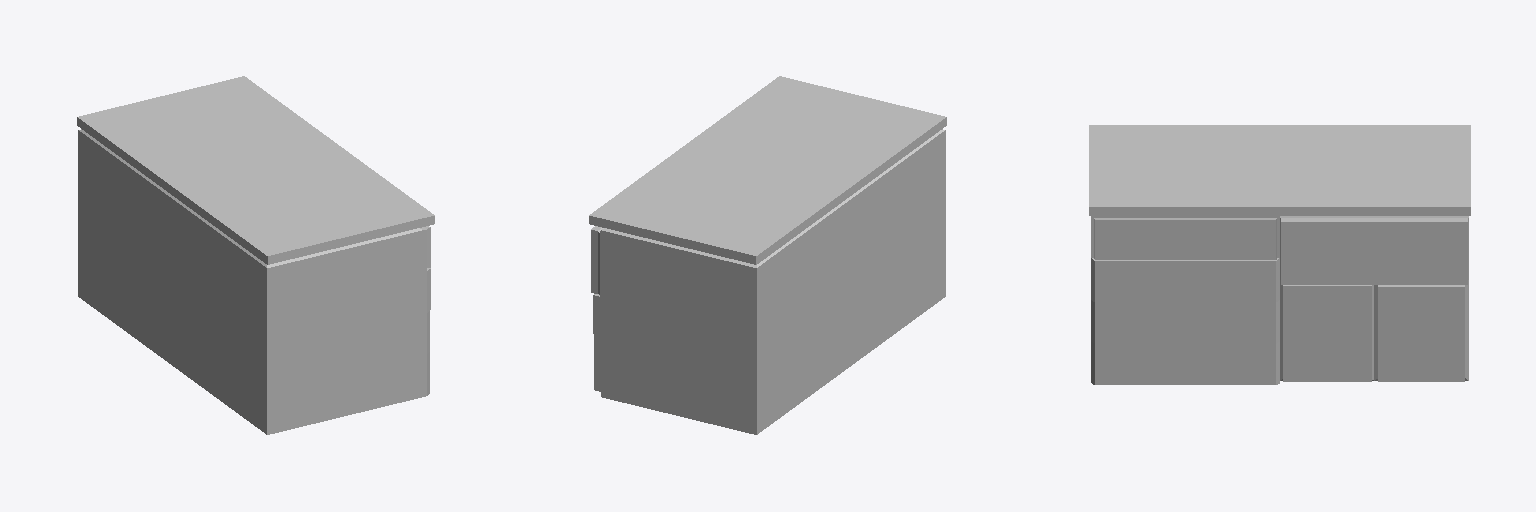
Rendered from KitchenDrawers.obj.
3 views of the same model, side by side, from view 1: azimuth 30°, elevation 25°; view 2: azimuth 150°, elevation 25°; view 3: azimuth 270°, elevation 25° (orthographic).
Visible parts, largest first — view 1: Cube; view 2: Cube; view 3: Cube.
Part boxes in pixels (x1,y1,x2,y2): Cube: (77, 76, 434, 434); Cube: (589, 76, 946, 434); Cube: (1089, 125, 1470, 384).
Size of the model in its own units: 3.8 by 3.9 by 7.49.